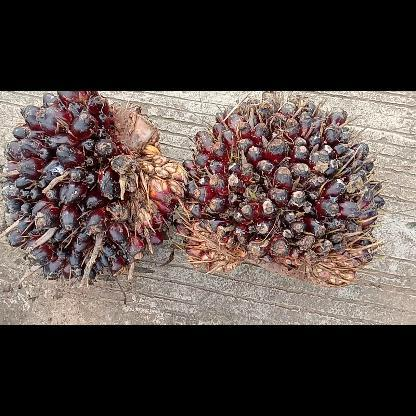TBS mentah: (172, 94, 388, 288), (0, 90, 188, 284)
